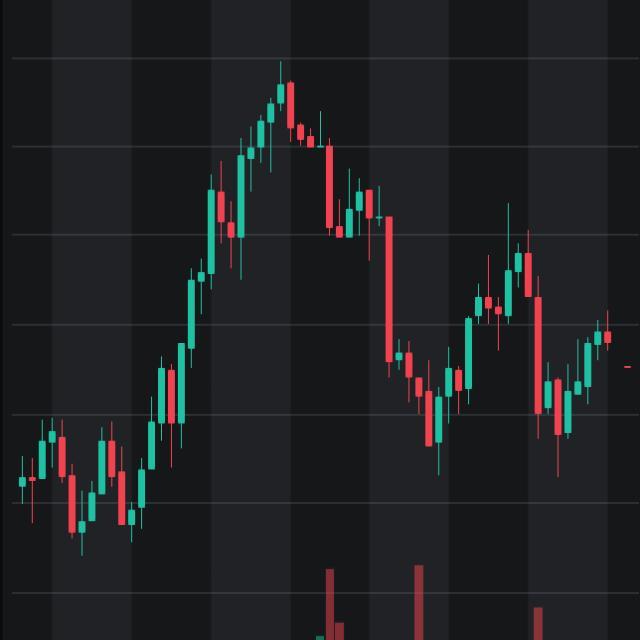Resistance-Emerging: (343, 184, 628, 490)
